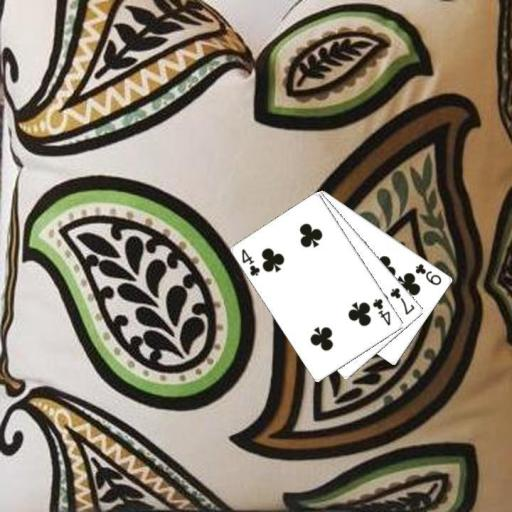4C: (370, 295, 393, 327), (239, 246, 262, 278)
7C: (387, 285, 417, 317)
9C: (412, 260, 444, 287)
